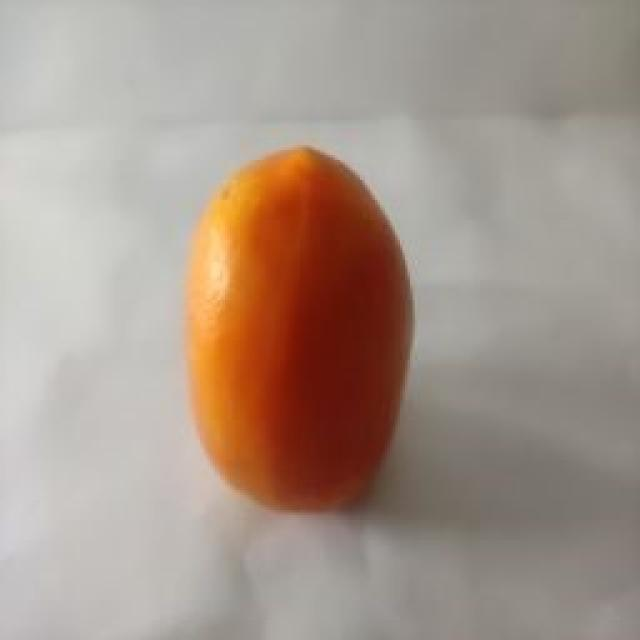Ripe: (177, 139, 421, 520)
